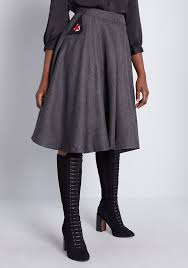S_skirt: (26, 6, 155, 155)
